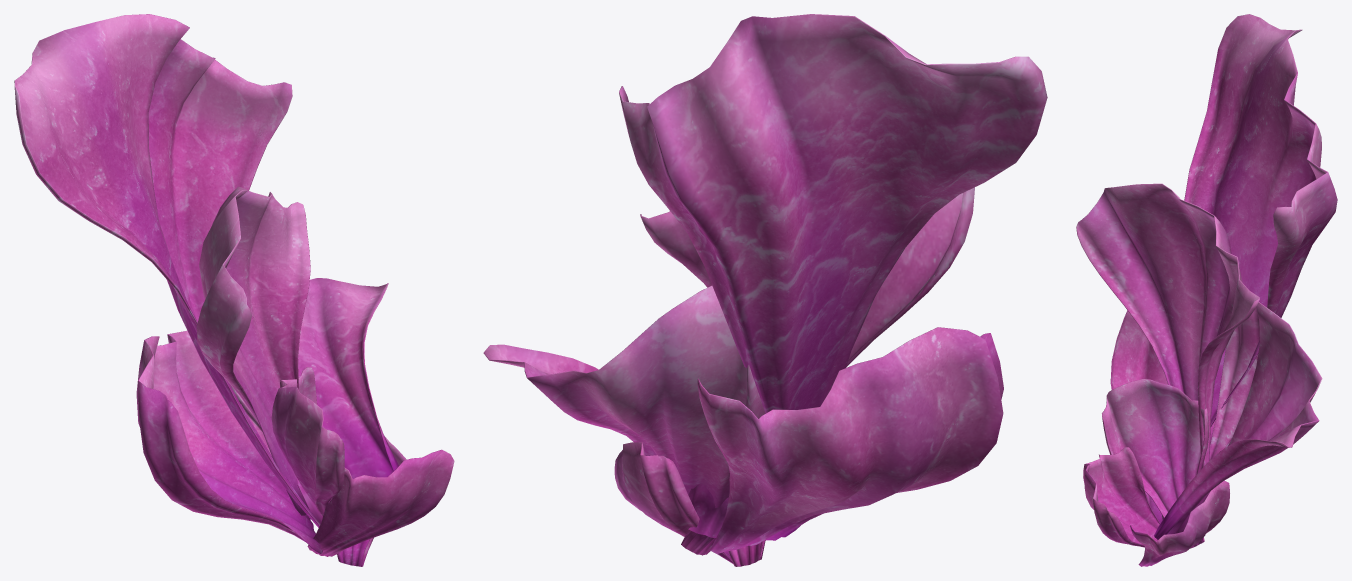
3 views of the same model, side by side, from view 1: azimuth 30°, elevation 25°; view 2: azimuth 150°, elevation 25°; view 3: azimuth 270°, elevation 25° (orthographic). The views are drawn at different scales.
Parts seen in each view (by area): view 1: Coral_5; view 2: Coral_5; view 3: Coral_5.
Part boxes in pixels (<box>): Coral_5: <box>14,14,454,566</box>; Coral_5: <box>483,14,1047,566</box>; Coral_5: <box>1076,14,1337,566</box>.
Size of the model in its own units: 11.83 by 14.83 by 7.73.
